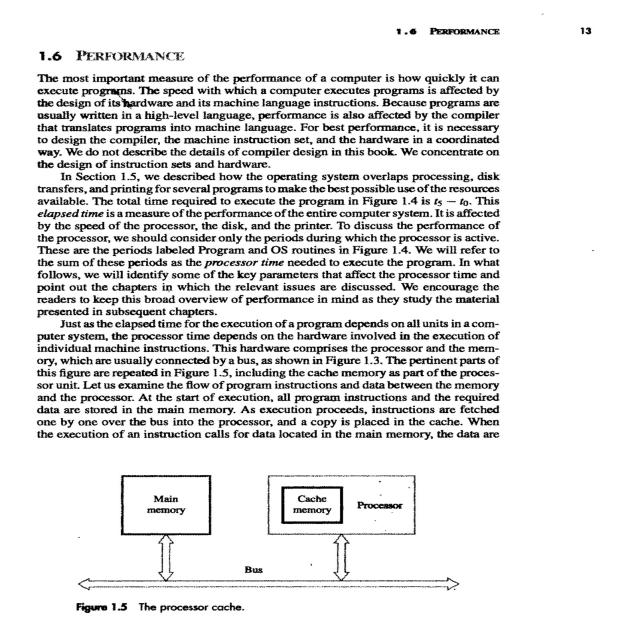diagram: (59, 458, 519, 637)
